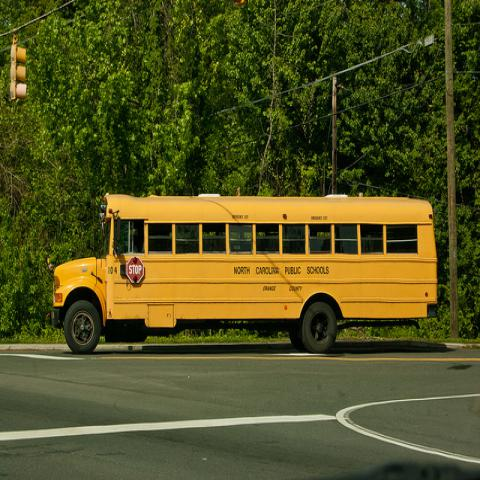bus: (51, 192, 437, 356)
